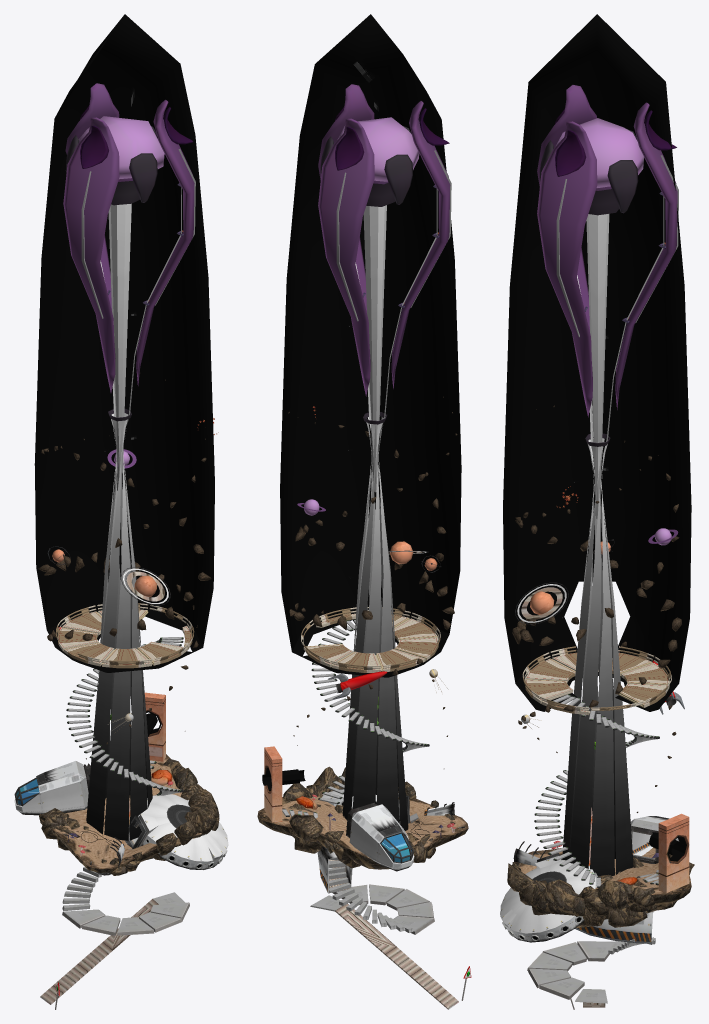
Rendered from pm-colony-tower.glb.
3 views of the same model, side by side, from view 1: azimuth 30°, elevation 25°; view 2: azimuth 150°, elevation 25°; view 3: azimuth 270°, elevation 25° (orthographic). The views are drawn at different scales.
Visible parts, largest first — view 1: Colony_Tower_Art; view 2: Colony_Tower_Art; view 3: Colony_Tower_Art.
Part boxes in pixels (x1,y1,x2,y2): Colony_Tower_Art: (14, 14, 228, 1009); Colony_Tower_Art: (257, 14, 471, 1009); Colony_Tower_Art: (500, 14, 694, 1009).
Bounding box in the file's own units: 16.03 × 91.25 × 15.53.
12 materials, 12 textured.
